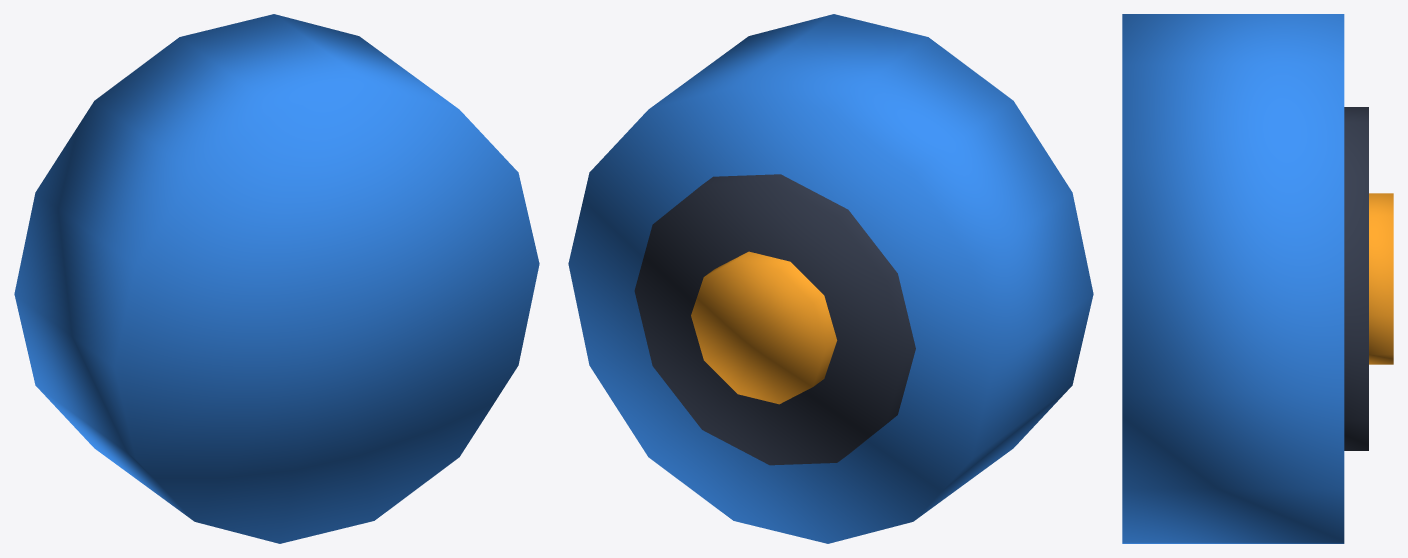
File: core_flywheel.obj
3 renders of one model, left to right at view 1: azimuth 30°, elevation 25°; view 2: azimuth 150°, elevation 25°; view 3: azimuth 270°, elevation 25°, orthographic. The views are drawn at different scales.
Bounding box in the file's own units: 0.44 × 0.429 × 0.22.
